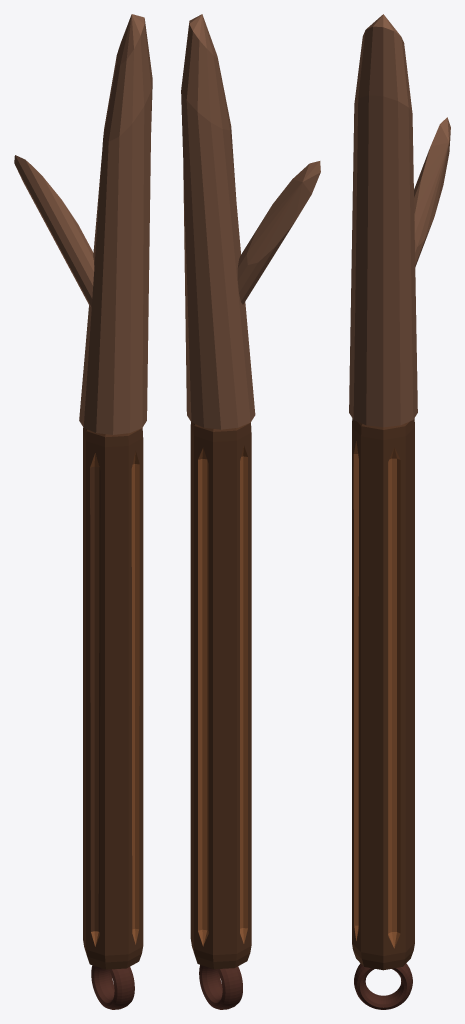
Rendered from Wand 561.glb.
3 views of the same model, side by side, from view 1: azimuth 30°, elevation 25°; view 2: azimuth 210°, elevation 25°; view 3: azimuth 270°, elevation 25° (orthographic).
Parts seen in each view (by area): view 1: GeneratedWand; view 2: GeneratedWand; view 3: GeneratedWand.
Boxes of the visible parts, bbox=[...] form: GeneratedWand: bbox=[14, 14, 152, 1009]; GeneratedWand: bbox=[181, 14, 320, 1009]; GeneratedWand: bbox=[349, 14, 450, 1009].
Bounding box in the file's own units: 0.0578 × 0.5063 × 0.0466.
